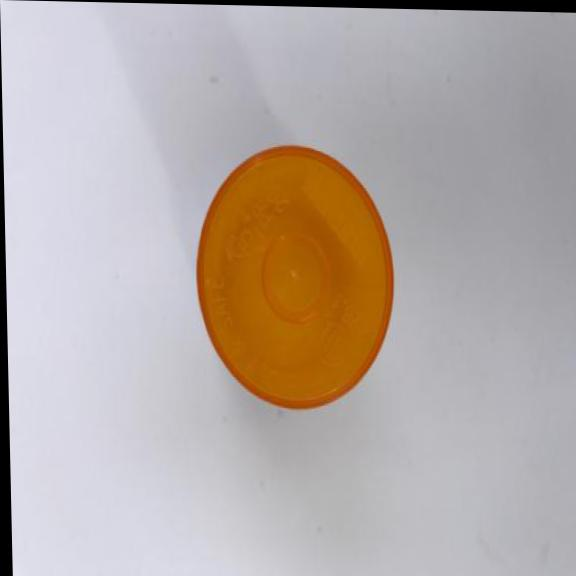Plastik: (183, 138, 401, 415)
